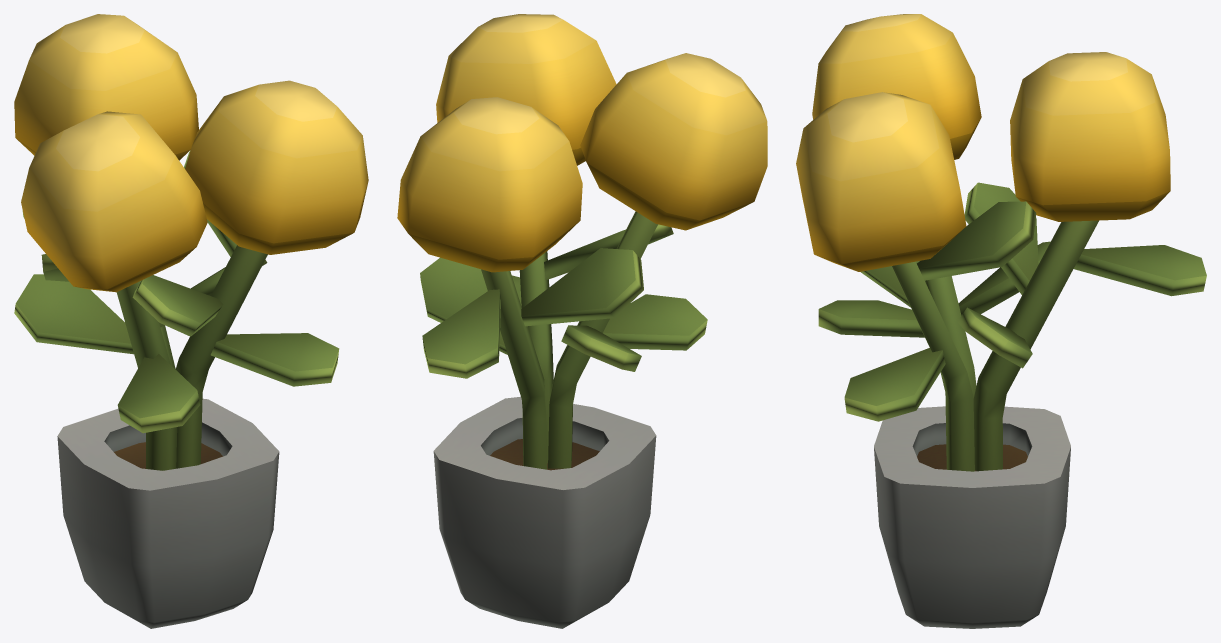
File: flower_bunch_2_yellow_pot.fbx
3 views of the same model, side by side, from view 1: azimuth 30°, elevation 25°; view 2: azimuth 150°, elevation 25°; view 3: azimuth 270°, elevation 25° (orthographic).
Parts seen in each view (by area): view 1: flower_bunch_2_yellow_pot; view 2: flower_bunch_2_yellow_pot; view 3: flower_bunch_2_yellow_pot.
Part boxes in pixels (box(x1,y1,x2,y2)): flower_bunch_2_yellow_pot: box(14, 14, 368, 628); flower_bunch_2_yellow_pot: box(397, 14, 767, 628); flower_bunch_2_yellow_pot: box(796, 14, 1206, 628).
Size of the model in its own units: 74.48 by 128 by 88.01.
